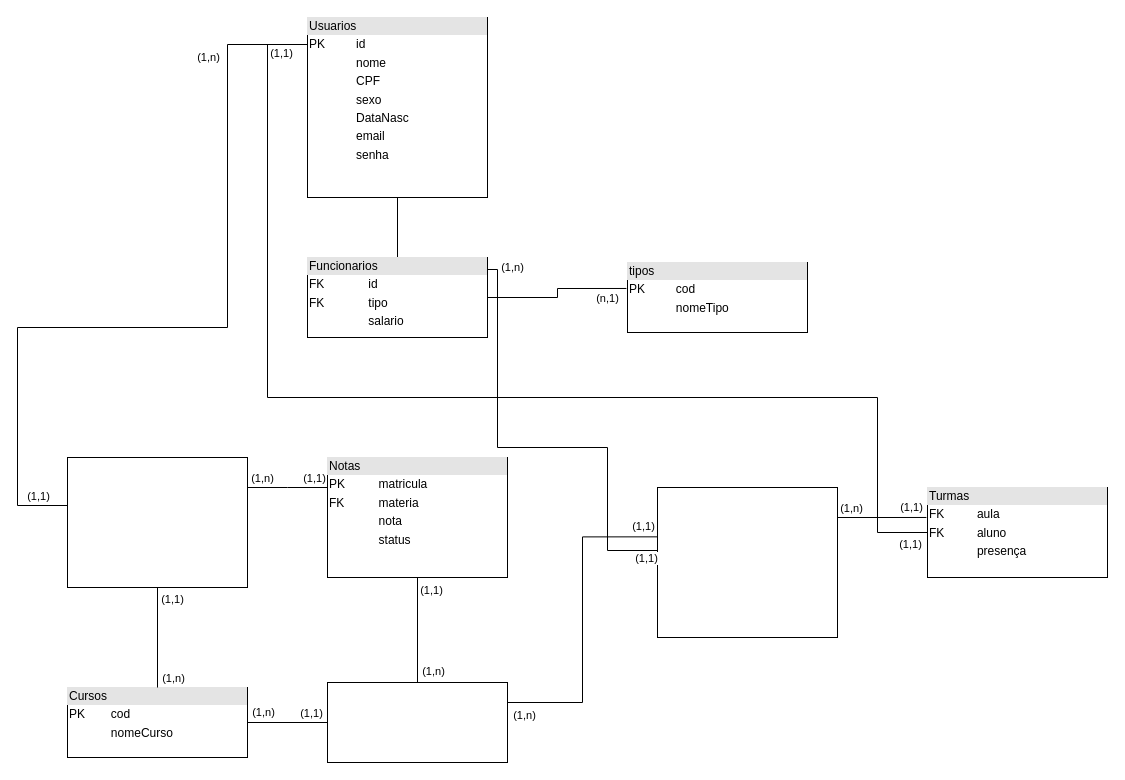
The diagram is 1125 pixels wide and 780 high, and some of its shapes have lost their labels. Here are the shapes that lost their labels. From the top down, the centre of each, then its label:
At point 157,522: "Matricula PK cod FK raAluno FK codCurso mensalidade dataMatricula status".
At point 747,562: "Aulas PK cod FK materia FK idProfessor nomeSala Assunto data status".
At point 417,722: "Materias PK cod FK codCurso nomeMateria".
